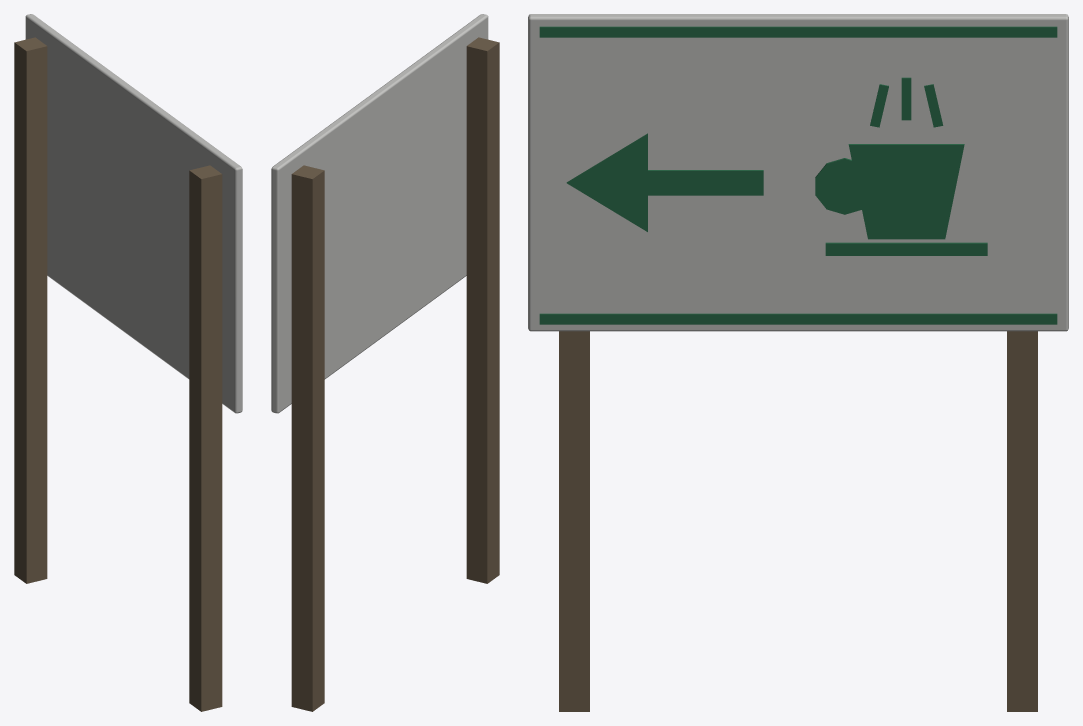
The model's file is SM_Prop_road_cafesign_3.glb.
3 renders of one model, left to right at view 1: azimuth 30°, elevation 25°; view 2: azimuth 150°, elevation 25°; view 3: azimuth 270°, elevation 25°, orthographic. The views are drawn at different scales.
Visible parts, largest first — view 1: SM_Prop_road_cafesign_3; view 2: SM_Prop_road_cafesign_3; view 3: SM_Prop_road_cafesign_3.
Boxes of the visible parts, left/top/right/bottom form: SM_Prop_road_cafesign_3: left=14, top=14, right=242, bottom=711; SM_Prop_road_cafesign_3: left=271, top=14, right=499, bottom=711; SM_Prop_road_cafesign_3: left=528, top=14, right=1068, bottom=711.
Bounding box in the file's own units: 0.122 × 2 × 1.4.
